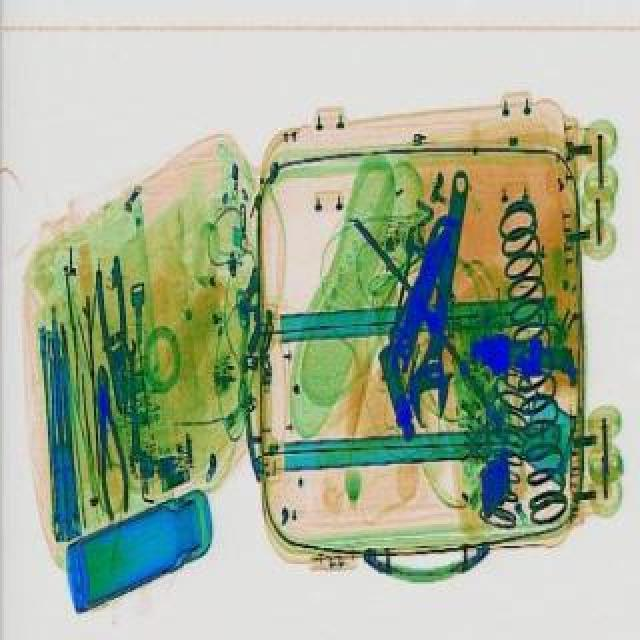scissors: (400, 164, 484, 424), (122, 336, 142, 466)
wrench: (84, 358, 132, 514), (92, 256, 136, 412)
